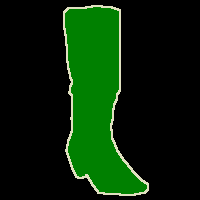shoe: (64, 6, 148, 195)
